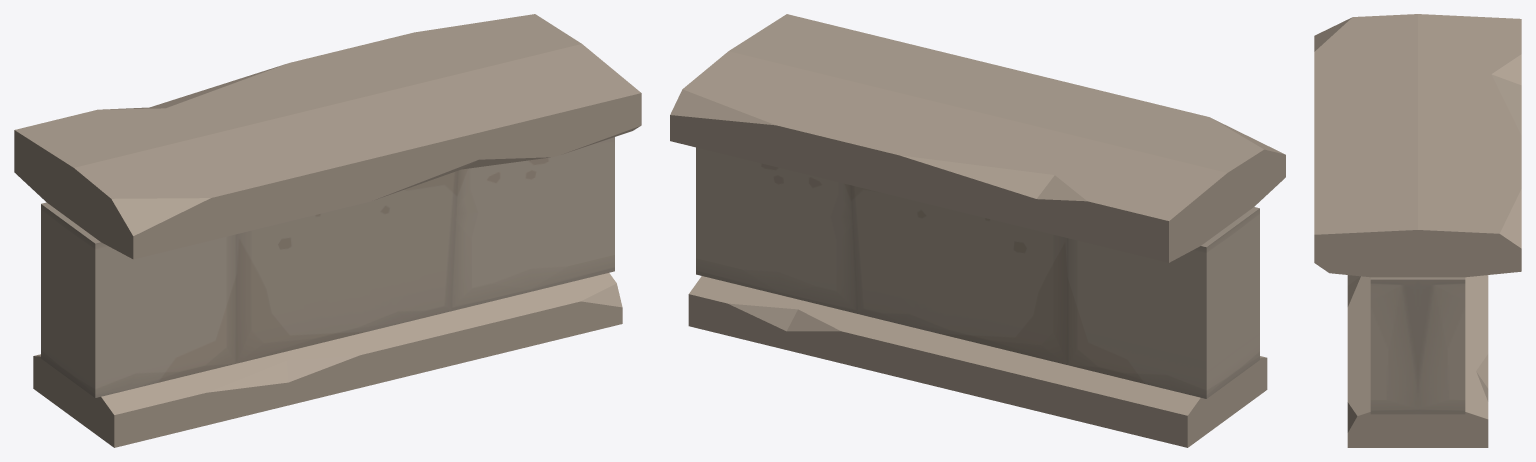
Rendered from SM_Bld_Temple_Balcony_Half_02.fbx.
3 renders of one model, left to right at view 1: azimuth 30°, elevation 25°; view 2: azimuth 150°, elevation 25°; view 3: azimuth 270°, elevation 25°, orthographic. The views are drawn at different scales.
Visible parts, largest first — view 1: SM_Bld_Temple_Balcony_Half_02; view 2: SM_Bld_Temple_Balcony_Half_02; view 3: SM_Bld_Temple_Balcony_Half_02.
Part boxes in pixels (box(x1,y1,x2,y2)): SM_Bld_Temple_Balcony_Half_02: box(14, 14, 641, 447); SM_Bld_Temple_Balcony_Half_02: box(670, 14, 1285, 447); SM_Bld_Temple_Balcony_Half_02: box(1314, 14, 1521, 447).
Bounding box in the file's own units: 250 × 115 × 99.06.
